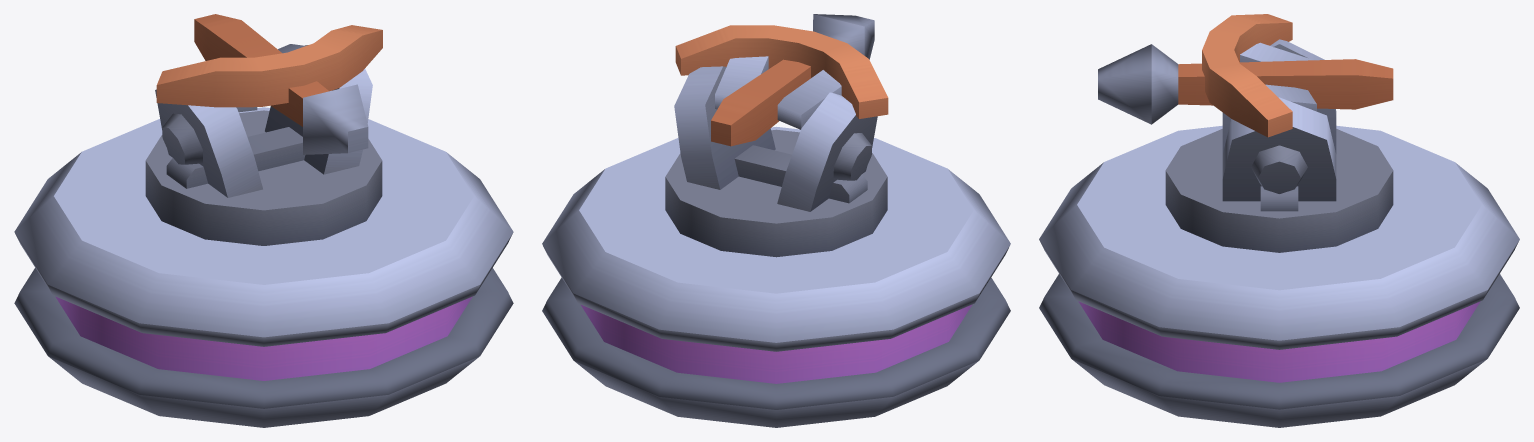
The model's file is enemy-ufo-d-weapon.fbx.
3 renders of one model, left to right at view 1: azimuth 30°, elevation 25°; view 2: azimuth 150°, elevation 25°; view 3: azimuth 270°, elevation 25°, orthographic. The views are drawn at different scales.
Visible parts, largest first — view 1: enemy-ufo-d-weapon, arrow; view 2: enemy-ufo-d-weapon, arrow; view 3: enemy-ufo-d-weapon, arrow.
Part boxes in pixels (x1=…): enemy-ufo-d-weapon: x1=14, y1=45, x2=513, y2=427; arrow: x1=156, y1=14, x2=382, y2=154; enemy-ufo-d-weapon: x1=542, y1=66, x2=1010, y2=427; arrow: x1=675, y1=14, x2=888, y2=146; enemy-ufo-d-weapon: x1=1039, y1=39, x2=1519, y2=427; arrow: x1=1098, y1=14, x2=1393, y2=137.
Bounding box in the file's own units: 94.94 × 63.75 × 95.
